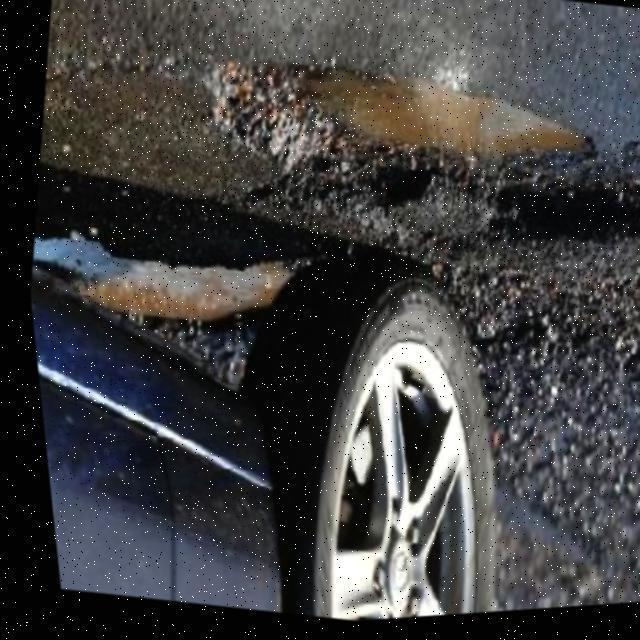pothole: (171, 22, 640, 294), (18, 211, 303, 369)
